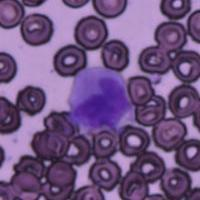M: (66, 66, 132, 134)
